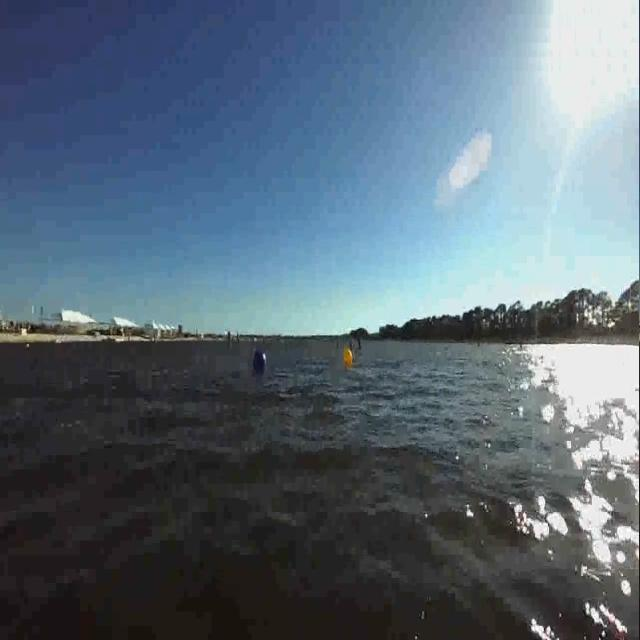blue-buoy: (255, 349, 269, 374)
yellow-buoy: (344, 345, 354, 367)
